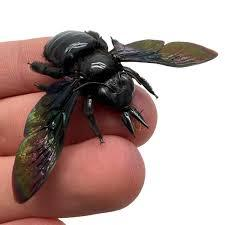Xylocopa: (11, 17, 214, 202)
